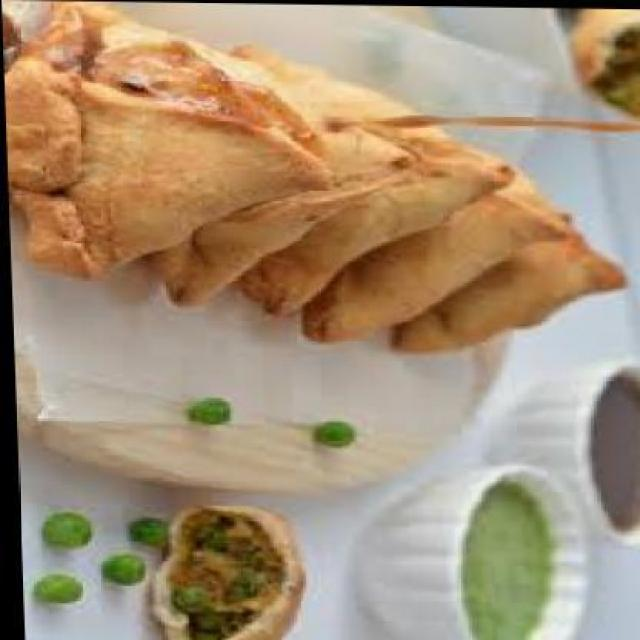samosa: (0, 0, 334, 277), (128, 26, 420, 311), (218, 43, 516, 320), (292, 142, 570, 344), (380, 211, 628, 355)
